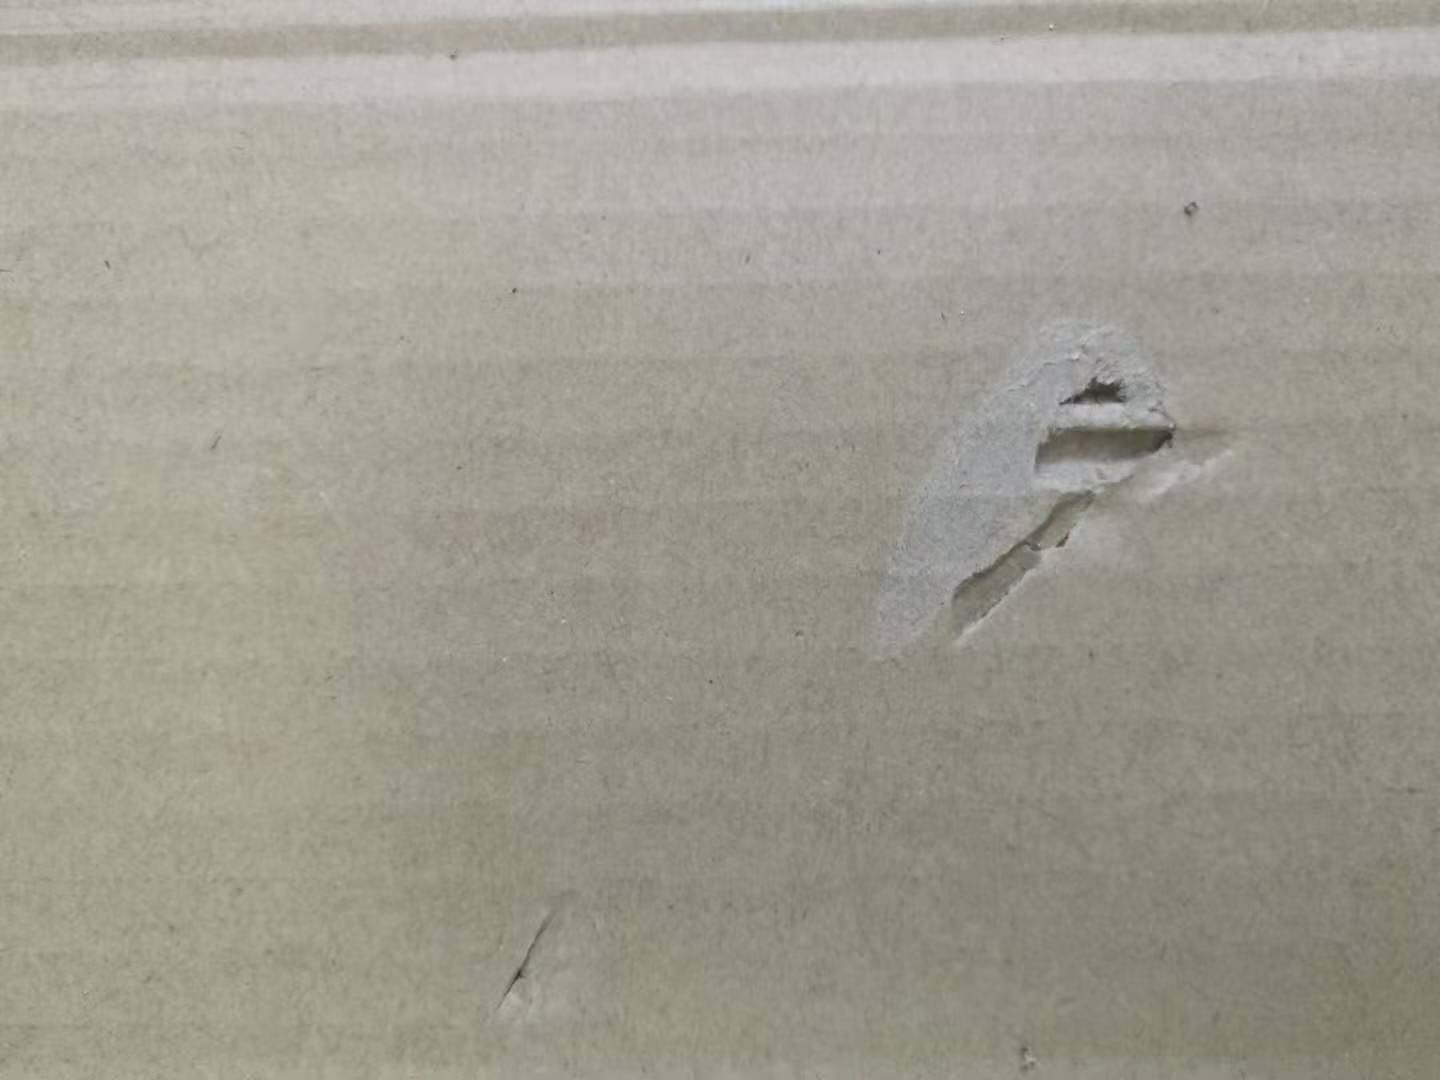defect: (841, 278, 1277, 697), (3, 2, 1440, 118), (472, 871, 637, 1052)
